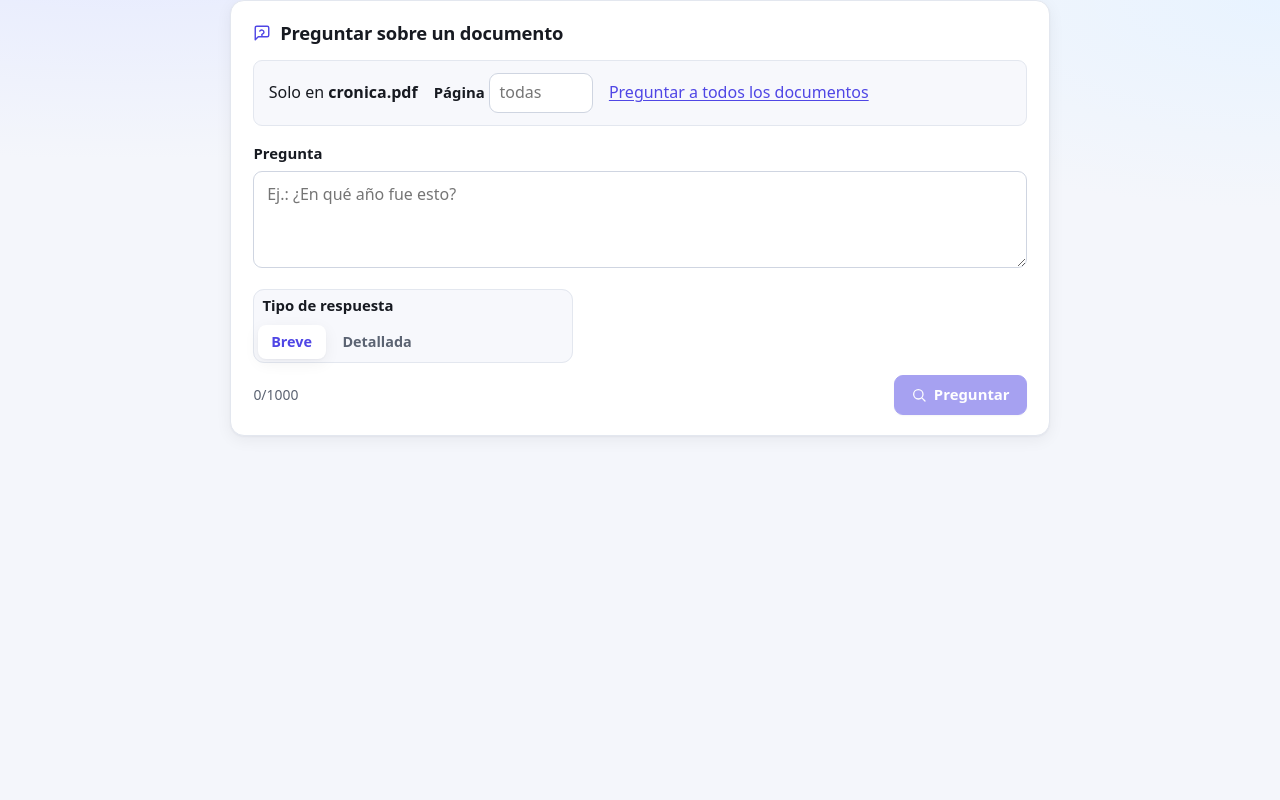
Test case: AskPage › pregunta solo sobre un documento y una página
This screenshot has width=1280, height=800.
Expected: the text "cronica.pdf" is shown, x1=328 y1=81 x2=418 y2=103
Type "65" into the number field labelled "Página". click: {"x": 541, "y": 93}
box: x1=489 y1=73 x2=593 y2=113
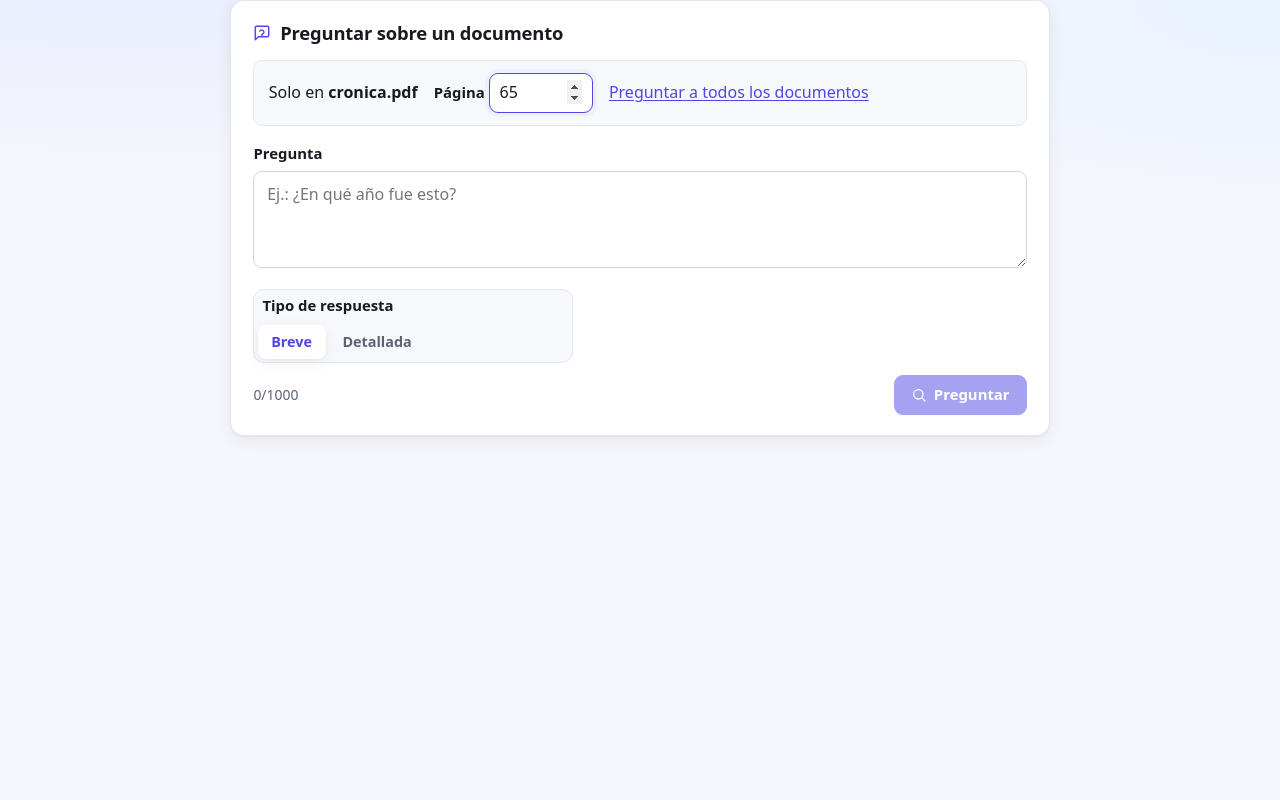
Click the text box labelled "Pregunta". click: {"x": 640, "y": 220}
box: x1=253 y1=171 x2=1027 y2=268
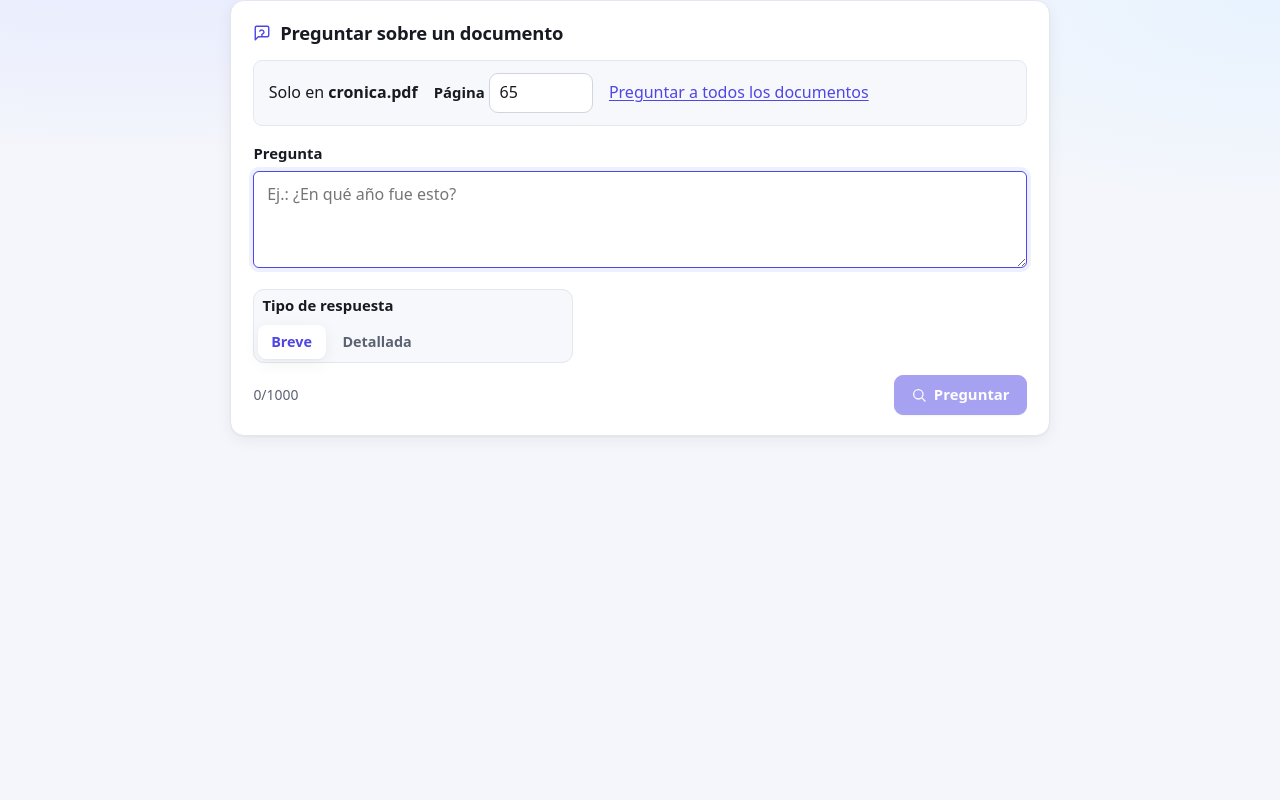
Type keys "¿En qué año fue esto?"
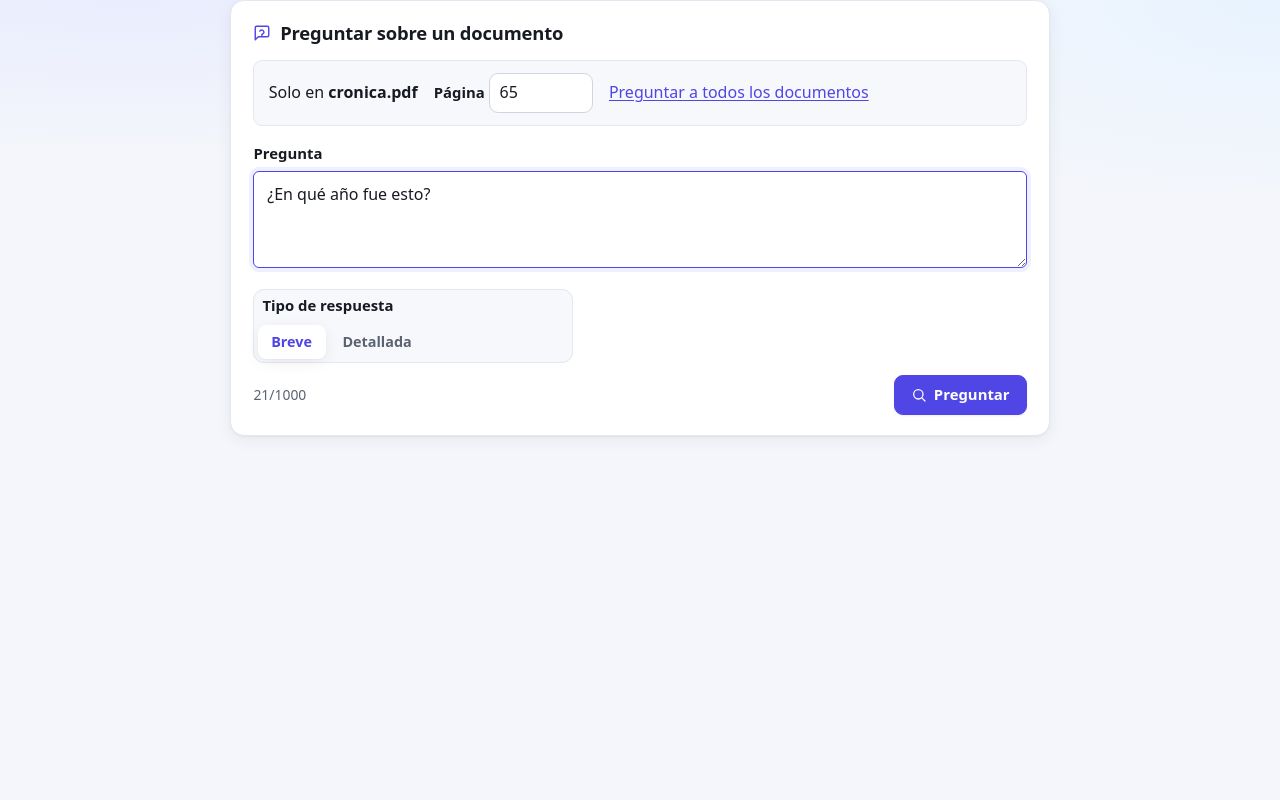
Click the button "Preguntar". click: {"x": 960, "y": 395}
box: x1=894 y1=375 x2=1027 y2=414
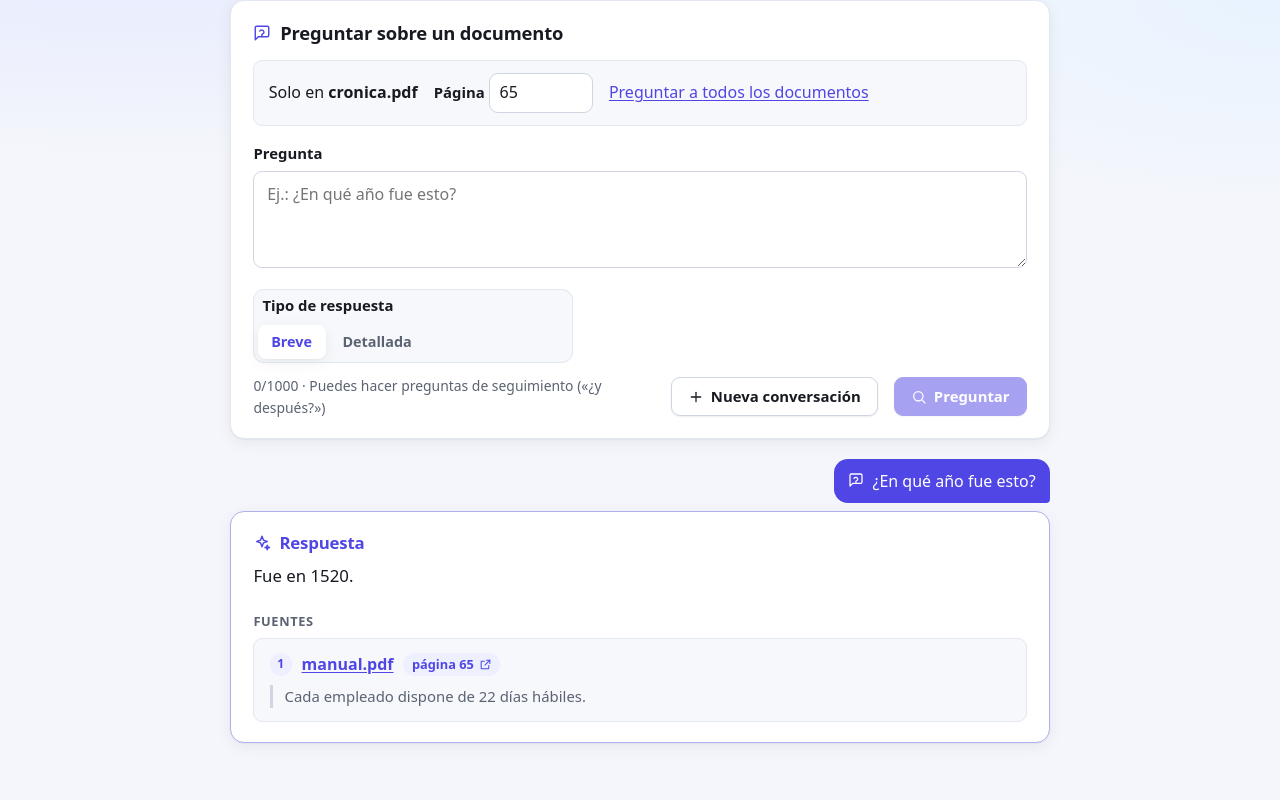
Expected: the text "Fue en 1520." is shown, x1=253 y1=564 x2=353 y2=587
